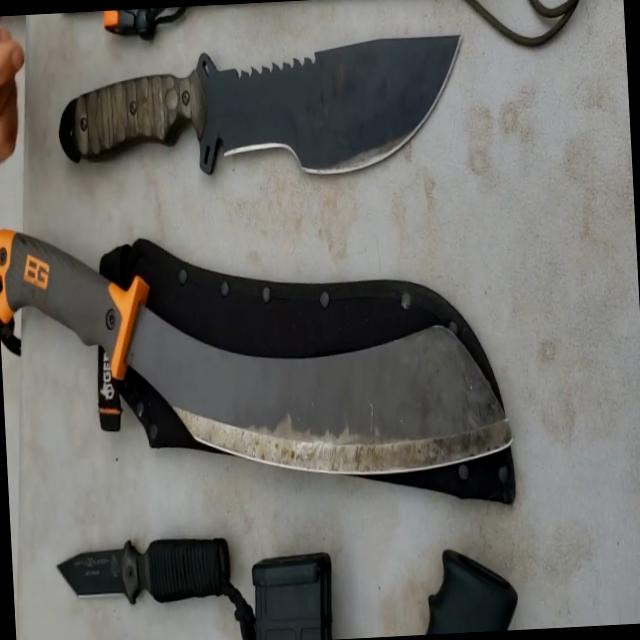knife: (0, 249, 532, 506), (68, 11, 472, 221), (57, 516, 237, 606)
